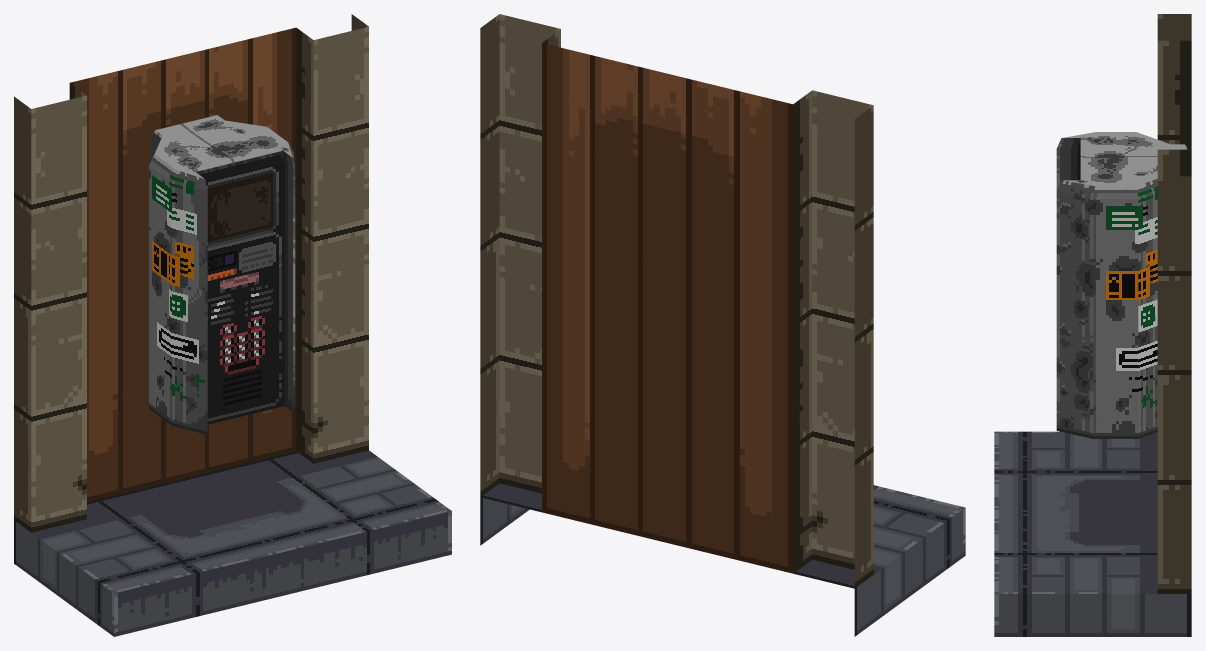
The model's file is blade_runner_video_phone_pixel-art.glb.
3 renders of one model, left to right at view 1: azimuth 30°, elevation 25°; view 2: azimuth 150°, elevation 25°; view 3: azimuth 270°, elevation 25°, orthographic. The views are drawn at different scales.
Parts seen in each view (by area): view 1: Phone_booth_0; view 2: Phone_booth_0; view 3: Phone_booth_0.
Boxes of the visible parts, x1,y1,x2,y2 form: Phone_booth_0: (14,14,451,636); Phone_booth_0: (480,14,965,636); Phone_booth_0: (994,14,1191,636).
Size of the model in its own units: 1.32 by 1.75 by 0.6777.
Materials: 2 (2 with a texture image).
